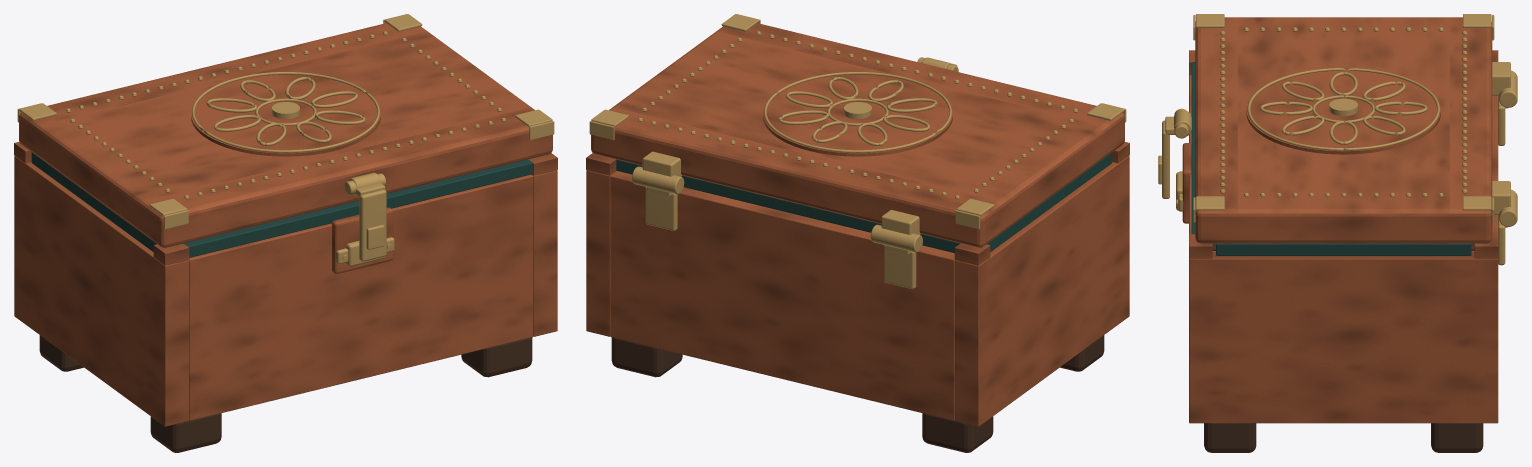
File: bosnia-and-herzegovina.glb
3 renders of one model, left to right at view 1: azimuth 30°, elevation 25°; view 2: azimuth 150°, elevation 25°; view 3: azimuth 270°, elevation 25°, orthographic. The views are drawn at different scales.
Visible parts, largest first — view 1: Lid / polished slab, Copper / front rear skin, Copper / side skin, Ornament / copper tray, Patina seam / long, Copper / side skin.001, Bronze / foot, Bronze / foot.002, Copper / clasp seat, Latch / lifting hasp, Patina seam / side, Ornament / ring (+2 smaller); view 2: Copper / front rear skin.001, Lid / polished slab, Copper / side skin, Ornament / copper tray, Copper / side skin.001, Patina seam / long.001, Bronze / foot.001, Bronze / foot.003, Patina seam / side, Ornament / ring, Hinge / fixed mount, Hinge / fixed mount.001 (+7 smaller); view 3: Copper / side skin.001, Lid / polished slab, Ornament / copper tray, Patina seam / side.001, Bronze / foot.002, Bronze / foot.003, Ornament / ring, Patina seam / long, Copper / front rear skin.001, Copper / clasp seat, Latch / lifting hasp, Hinge / moving leaf (+13 smaller).
Boxes of the visible parts, x1,y1,x2,y2 form: Lid / polished slab: (19, 23, 552, 247); Copper / front rear skin: (189, 174, 533, 420); Copper / side skin: (14, 155, 188, 426); Ornament / copper tray: (191, 74, 380, 156); Patina seam / long: (183, 159, 532, 257); Copper / side skin.001: (531, 170, 557, 336); Bronze / foot: (150, 413, 221, 452); Bronze / foot.002: (461, 337, 532, 377); Copper / clasp seat: (331, 207, 393, 273); Latch / lifting hasp: (359, 190, 386, 261); Patina seam / side: (31, 152, 156, 251); Ornament / ring: (192, 72, 379, 152); Copper / front rear skin.001: (610, 171, 954, 420); Lid / polished slab: (591, 23, 1124, 247); Copper / side skin: (955, 155, 1129, 426); Ornament / copper tray: (763, 74, 952, 156); Copper / side skin.001: (586, 170, 617, 336); Patina seam / long.001: (616, 159, 960, 252); Bronze / foot.001: (922, 413, 993, 452); Bronze / foot.003: (611, 337, 682, 377); Patina seam / side: (987, 152, 1112, 251); Ornament / ring: (764, 72, 951, 152); Hinge / fixed mount: (884, 245, 916, 289); Hinge / fixed mount.001: (645, 187, 677, 230); Copper / side skin.001: (1189, 251, 1498, 423); Lid / polished slab: (1195, 17, 1492, 243); Ornament / copper tray: (1246, 70, 1440, 154); Patina seam / side.001: (1216, 243, 1471, 255); Bronze / foot.002: (1204, 423, 1256, 452); Bronze / foot.003: (1431, 423, 1483, 452); Ornament / ring: (1247, 68, 1439, 150); Patina seam / long: (1191, 62, 1195, 234); Copper / front rear skin.001: (1492, 95, 1498, 233); Copper / clasp seat: (1182, 143, 1191, 223); Latch / lifting hasp: (1162, 120, 1169, 198); Hinge / moving leaf: (1492, 62, 1510, 95).
Size of the model in its own units: 3.72 by 2.31 by 2.88.
4 materials, 1 textured.
